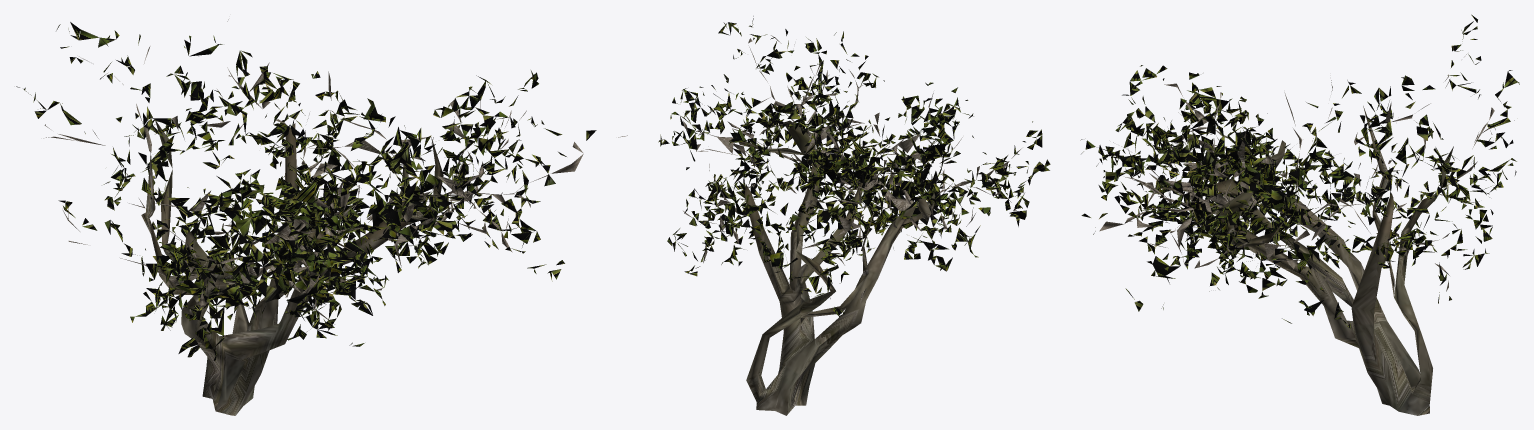
Rendered from island_tree_02_lod2.glb.
The picture shows the model from 3 angles, left to right: view 1: azimuth 30°, elevation 25°; view 2: azimuth 150°, elevation 25°; view 3: azimuth 270°, elevation 25°; orthographic projection. The views are drawn at different scales.
Parts seen in each view (by area): view 1: island_tree_02_LOD0; view 2: island_tree_02_LOD0; view 3: island_tree_02_LOD0.
Part boxes in pixels (x1,y1,x2,y2): island_tree_02_LOD0: (16, 19, 627, 415); island_tree_02_LOD0: (658, 16, 1050, 415); island_tree_02_LOD0: (1080, 14, 1519, 415).
Size of the model in its own units: 4.08 by 3.34 by 3.96.
3 materials, 3 textured.
